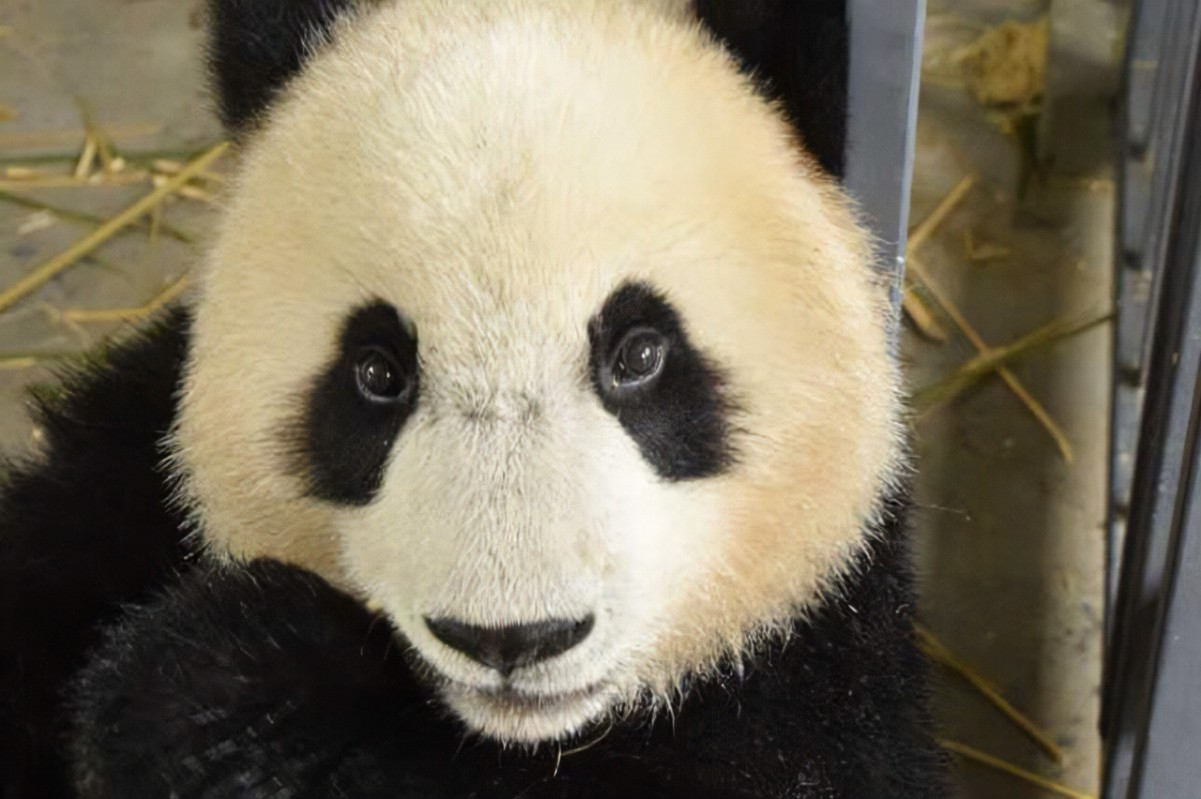panda: (13, 1, 1026, 770)
